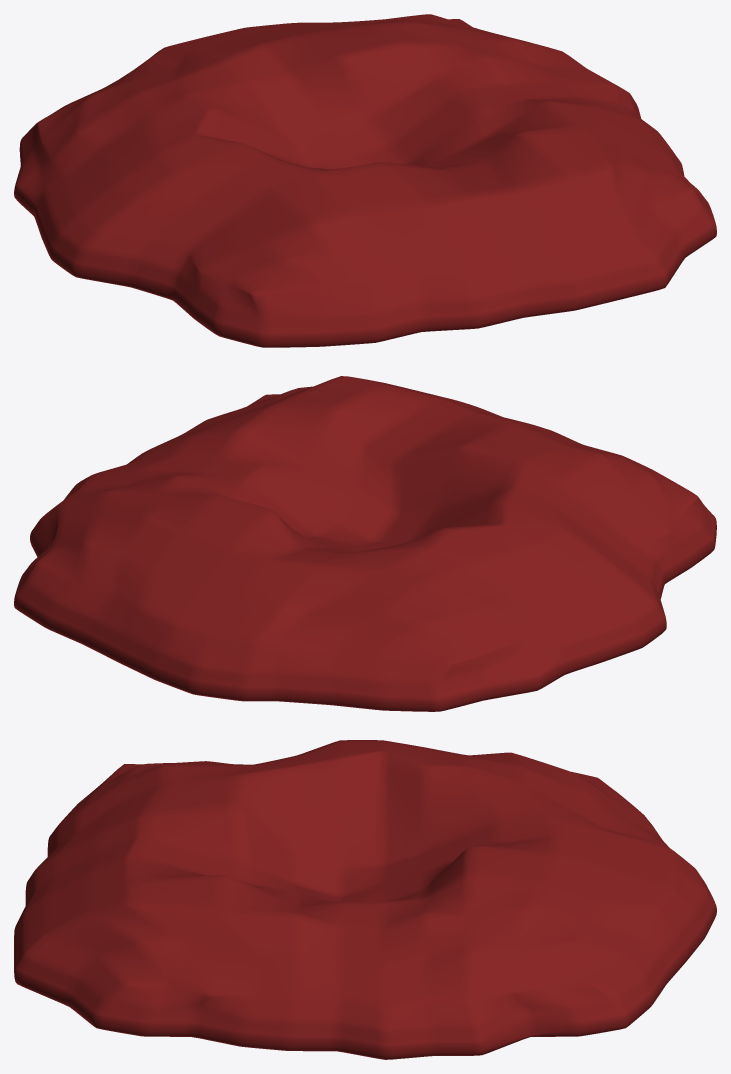
File: DirtPatch.fbx
3 renders of one model, top to bottom at view 1: azimuth 30°, elevation 25°; view 2: azimuth 150°, elevation 25°; view 3: azimuth 270°, elevation 25°, orthographic. The views are drawn at different scales.
Parts seen in each view (by area): view 1: pCube1; view 2: pCube1; view 3: pCube1.
Boxes of the visible parts, <box> form: pCube1: <box>14,14,716,347</box>; pCube1: <box>14,376,716,711</box>; pCube1: <box>14,740,716,1059</box>.
Size of the model in its own units: 29.77 by 4.57 by 30.49.
